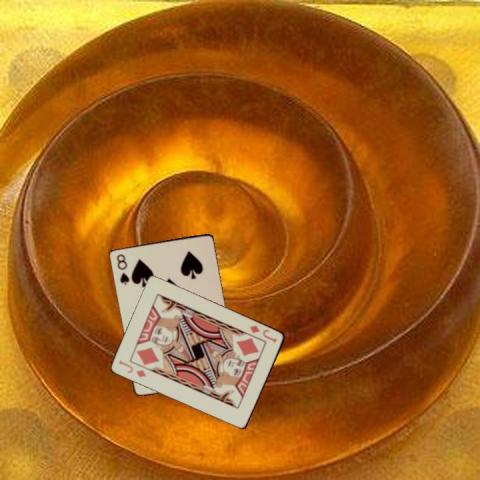8s: (113, 251, 131, 286)
Jd: (247, 322, 278, 344), (116, 356, 147, 378)
